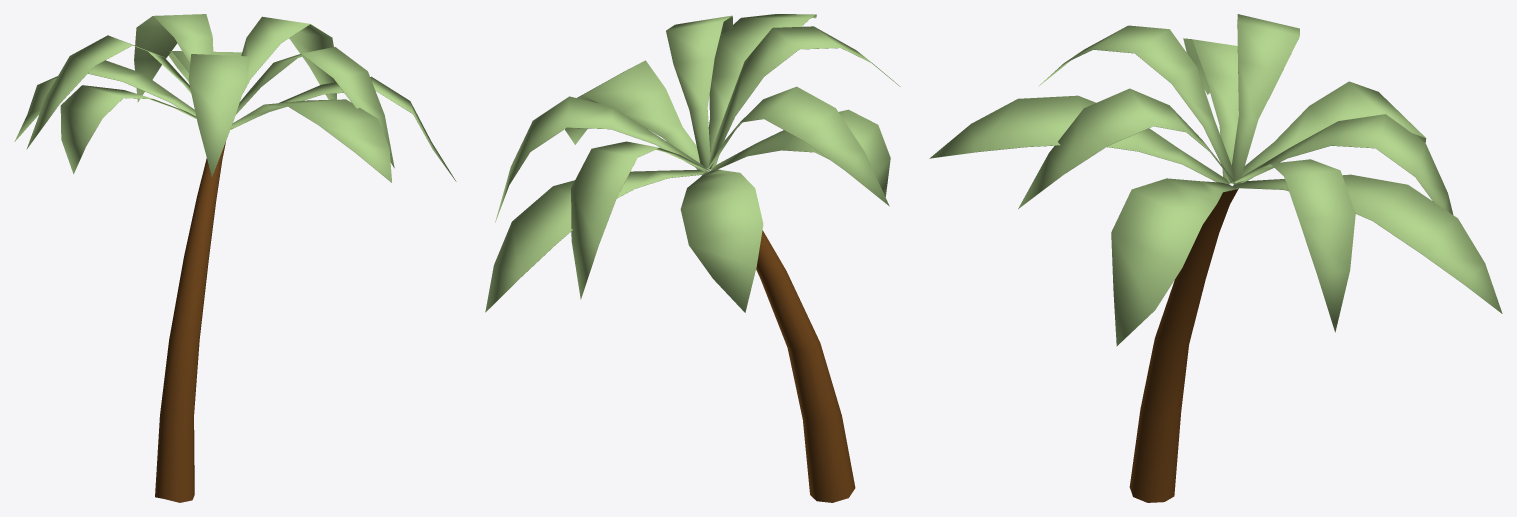
Rendered from palmtree.gltf.
3 renders of one model, left to right at view 1: azimuth 30°, elevation 25°; view 2: azimuth 150°, elevation 25°; view 3: azimuth 270°, elevation 25°, orthographic. The views are drawn at different scales.
Size of the model in its own units: 0.8162 by 0.9165 by 0.9973.
